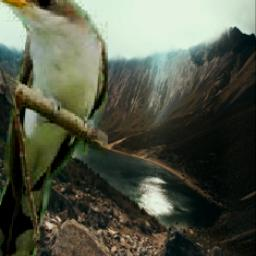Cuckoo: (0, 0, 108, 256)
